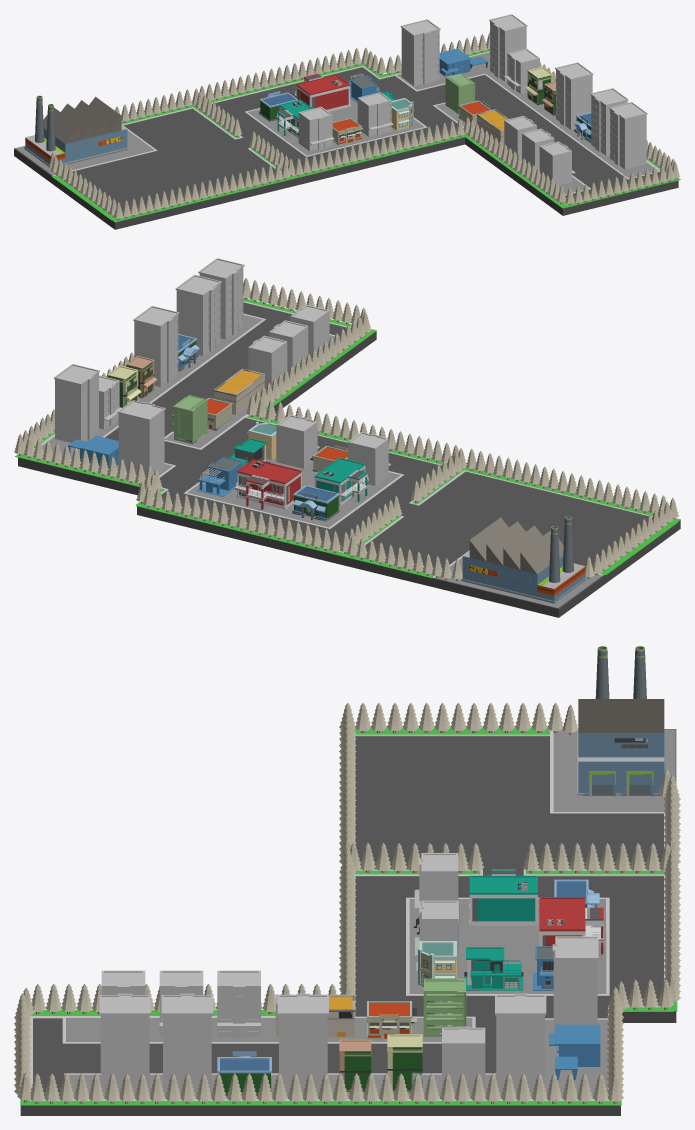
File: map2.fbx
The picture shows the model from 3 angles, top to bottom: view 1: azimuth 30°, elevation 25°; view 2: azimuth 150°, elevation 25°; view 3: azimuth 270°, elevation 25°; orthographic projection. The views are drawn at different scales.
Visible parts, largest first — view 1: Road5, Road1, Road2, Building_Factory, Building Sky_big_color005, Building Sky_big_color01, Building Sky_big_color003, Building Sky_big_color004, Building_House_03_color002, Road4, Building Sky_big_color002, Building Sky_small_color005 (+26 smaller); view 2: Road5, Building_Factory, Road1, Road2, Building Sky_big_color004, Building Sky_big_color005, Building Sky_big_color002, Building Sky_big_color003, Building_House_03_color002, Building Sky_big_color01, Road4, Building Sky_small_color006 (+23 smaller); view 3: Road5, Road2, Road1, Building_Factory, Road4, Building Sky_big_color01, Building Sky_big_color002, Building Sky_big_color004, Building Sky_big_color003, Building Sky_big_color005, Road6, Building_House_03_color01 (+23 smaller).
Boxes of the visible parts, x1=… form: Road5: x1=14, y1=108, x2=290, y2=229; Road1: x1=385, y1=75, x2=678, y2=215; Road2: x1=211, y1=67, x2=465, y2=186; Building_Factory: x1=24, y1=95, x2=127, y2=165; Building Sky_big_color005: x1=400, y1=19, x2=440, y2=85; Building Sky_big_color01: x1=609, y1=102, x2=647, y2=169; Building Sky_big_color003: x1=555, y1=62, x2=593, y2=129; Building Sky_big_color004: x1=489, y1=14, x2=527, y2=81; Building_House_03_color002: x1=294, y1=73, x2=350, y2=111; Road4: x1=247, y1=87, x2=424, y2=155; Building Sky_big_color002: x1=590, y1=88, x2=628, y2=155; Building Sky_small_color005: x1=298, y1=106, x2=334, y2=151; Road5: x1=348, y1=472, x2=680, y2=617; Building_Factory: x1=461, y1=516, x2=586, y2=603; Road1: x1=18, y1=302, x2=376, y2=495; Road2: x1=137, y1=420, x2=441, y2=566; Building Sky_big_color004: x1=54, y1=364, x2=99, y2=442; Building Sky_big_color005: x1=117, y1=400, x2=165, y2=476; Building Sky_big_color002: x1=175, y1=274, x2=221, y2=355; Building Sky_big_color003: x1=133, y1=306, x2=179, y2=386; Building_House_03_color002: x1=234, y1=459, x2=301, y2=510; Building Sky_big_color01: x1=198, y1=258, x2=244, y2=339; Road4: x1=187, y1=457, x2=400, y2=527; Building Sky_small_color006: x1=276, y1=415, x2=319, y2=468; Road5: x1=355, y1=729, x2=676, y2=869; Road2: x1=355, y1=870, x2=676, y2=1022; Road1: x1=20, y1=1011, x2=620, y2=1115; Building_Factory: x1=577, y1=646, x2=665, y2=796; Road4: x1=409, y1=899, x2=606, y2=993; Building Sky_big_color01: x1=99, y1=993, x2=150, y2=1096; Building Sky_big_color002: x1=161, y1=993, x2=212, y2=1096; Building Sky_big_color004: x1=495, y1=993, x2=546, y2=1096; Building Sky_big_color003: x1=277, y1=993, x2=328, y2=1096; Building Sky_big_color005: x1=552, y1=936, x2=598, y2=1033; Road6: x1=553, y1=729, x2=675, y2=811; Building_House_03_color01: x1=469, y1=869, x2=538, y2=925.
Bounding box in the file's own units: 15784 × 2037 × 11760.
